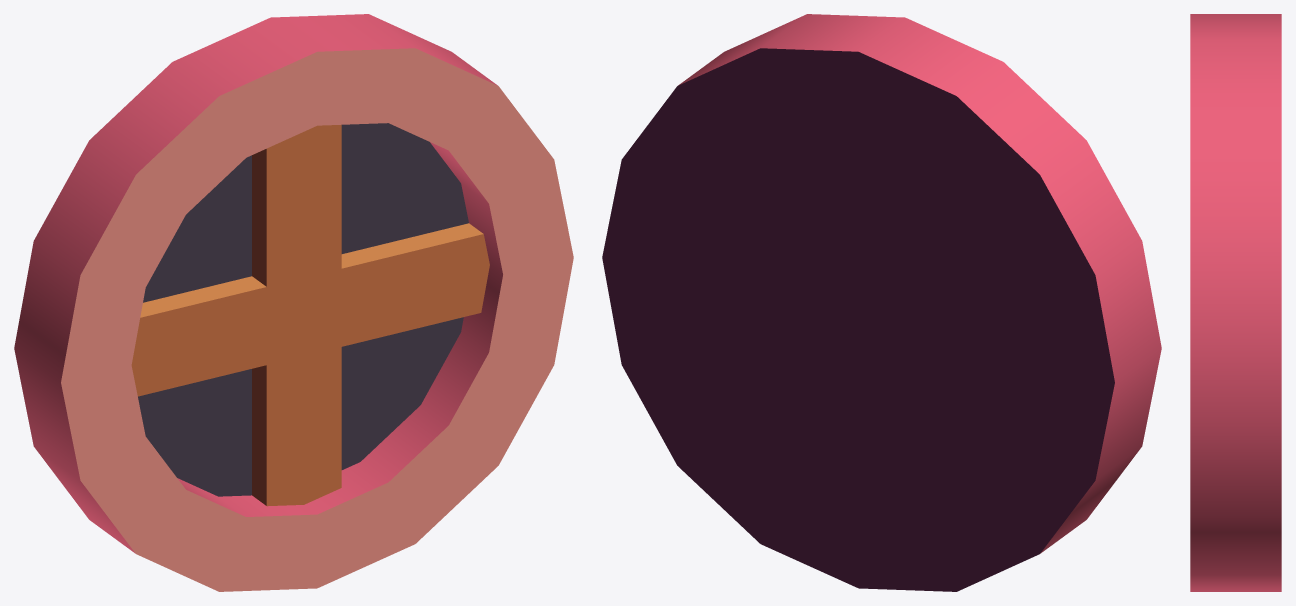
The model's file is SmallWindow02_Pink_Wood.glb.
The picture shows the model from 3 angles, left to right: view 1: azimuth 30°, elevation 25°; view 2: azimuth 150°, elevation 25°; view 3: azimuth 270°, elevation 25°; orthographic projection. The views are drawn at different scales.
Parts seen in each view (by area): view 1: SmallWindow02_Pink_Wood; view 2: SmallWindow02_Pink_Wood; view 3: SmallWindow02_Pink_Wood.
Part boxes in pixels (bbox=[...]): SmallWindow02_Pink_Wood: bbox=[14, 14, 573, 591]; SmallWindow02_Pink_Wood: bbox=[602, 14, 1161, 591]; SmallWindow02_Pink_Wood: bbox=[1190, 14, 1281, 591].
Bounding box in the file's own units: 0.5633 × 0.5633 × 0.089.
Materials: 1 (1 with a texture image).
